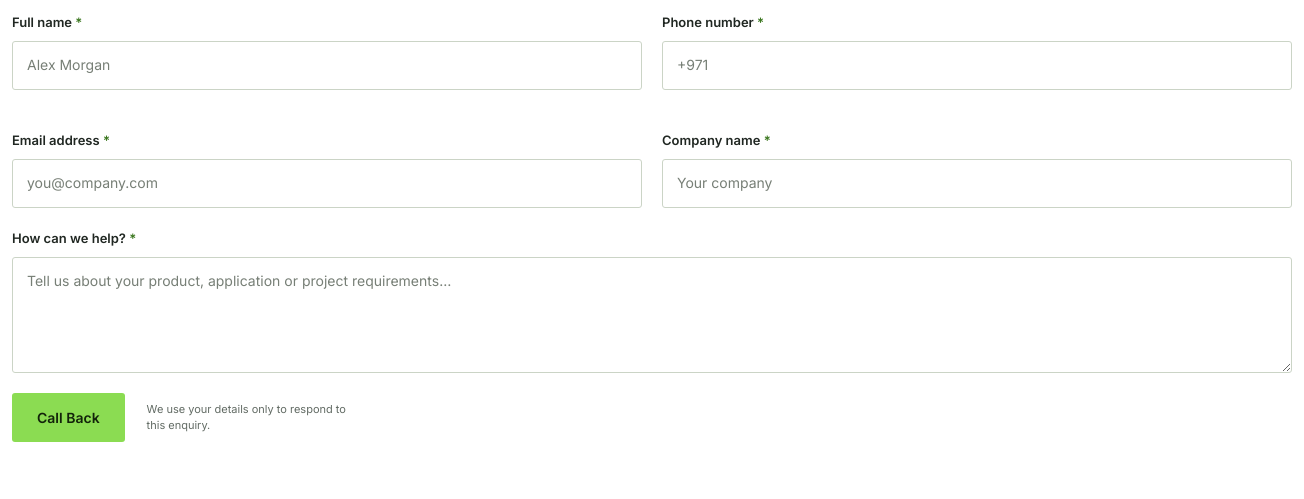
Test: Customer enquiry flow › shows a recoverable server error and retains entered values
Type "Customer" into the field labelled "Full name *" at (327, 66), box [12,41,642,90]
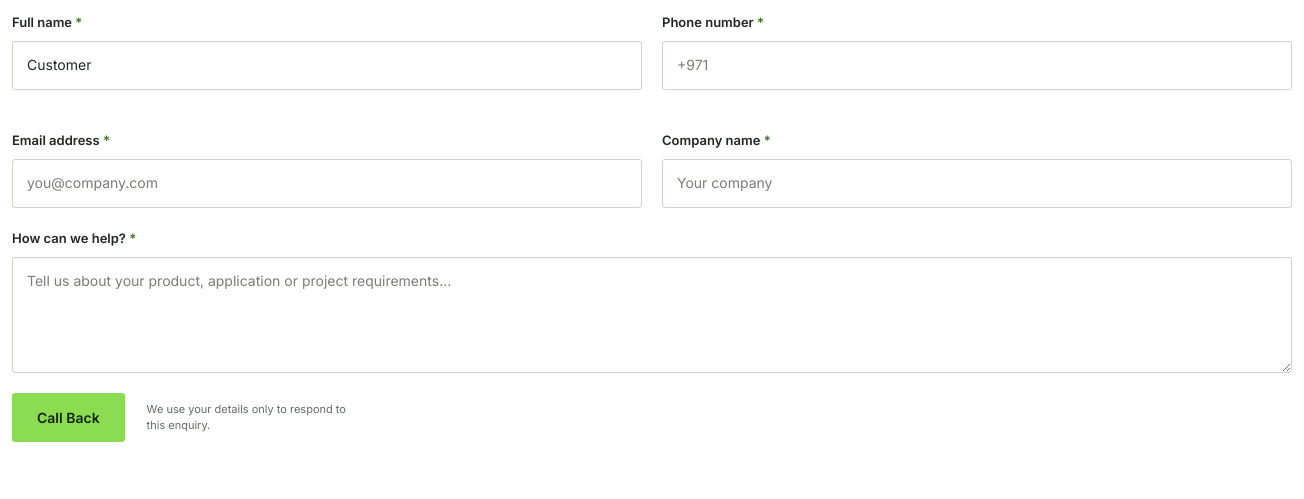
Type "123456789" into the field labelled "Phone number *" at (977, 66), box [662,41,1292,90]
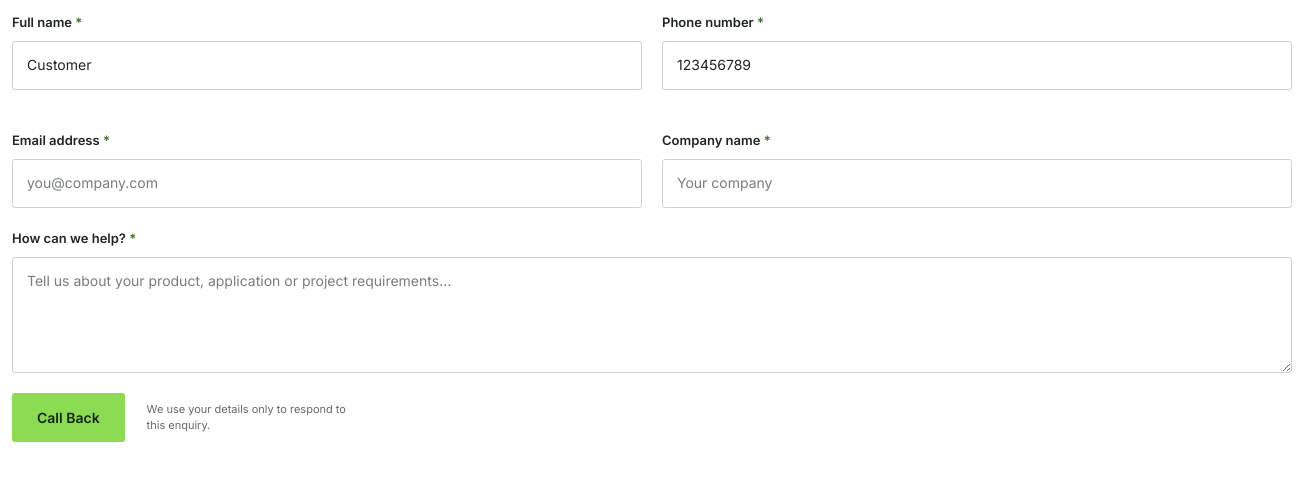
Type "a@example.com" into the field labelled "Email address *" at (327, 184), box [12,159,642,208]
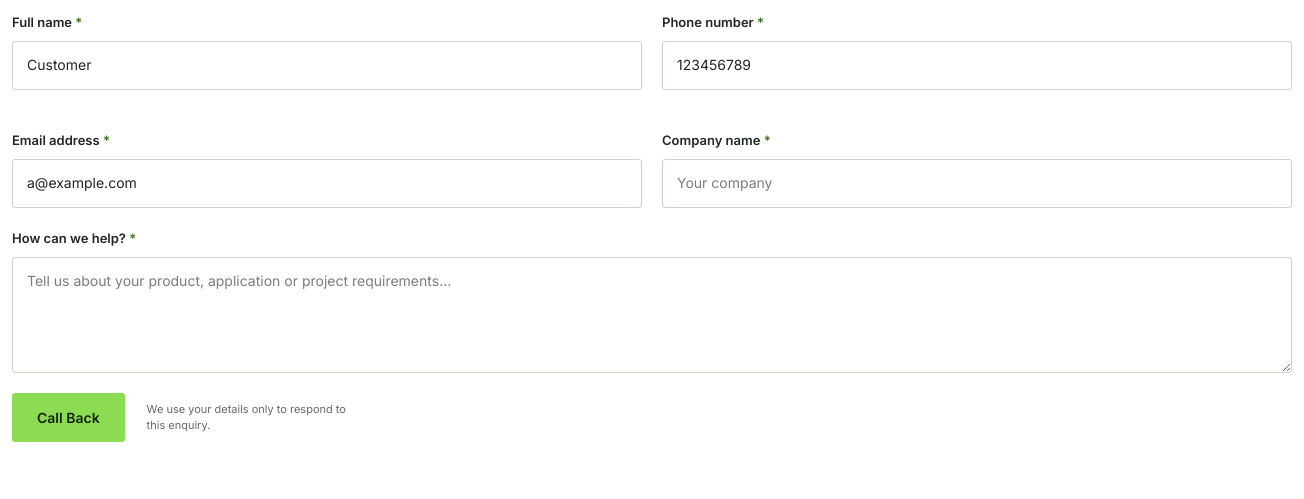
Type "Company" into the field labelled "Company name *" at (977, 184), box [662,159,1292,208]
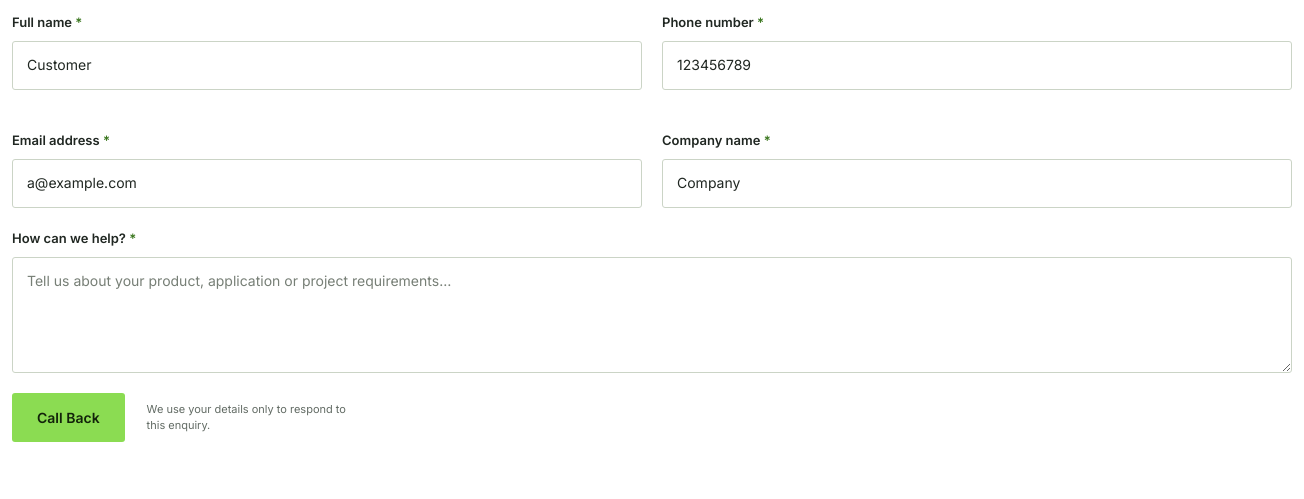
Replace the text in the text box labelled "How can we help? *" with "Please quote this motor." at (652, 315), box [12,257,1292,373]
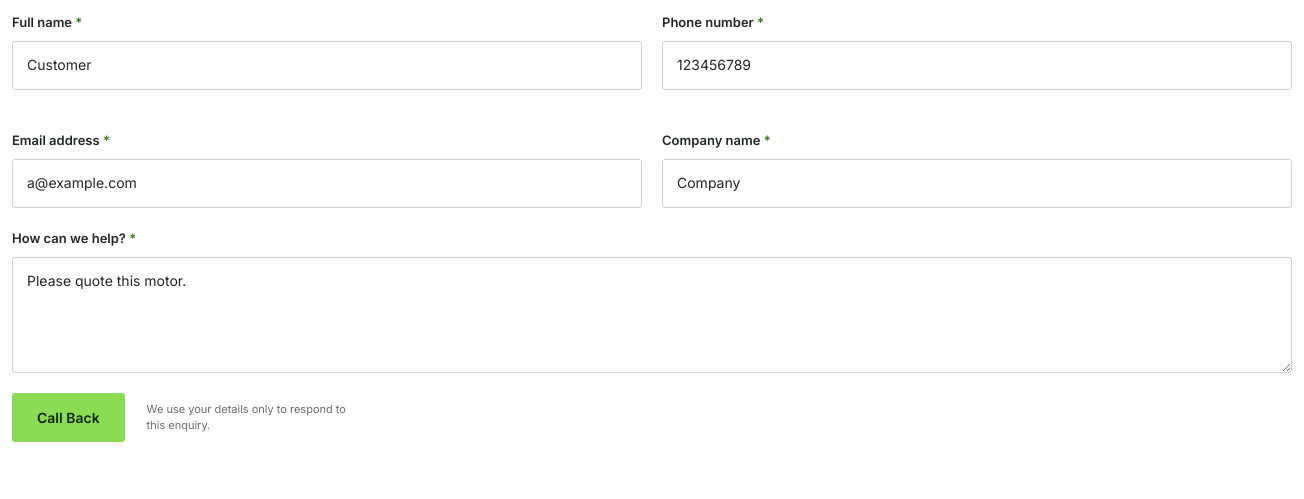
Click the button "Call Back" at (68, 418), box [12,393,125,442]
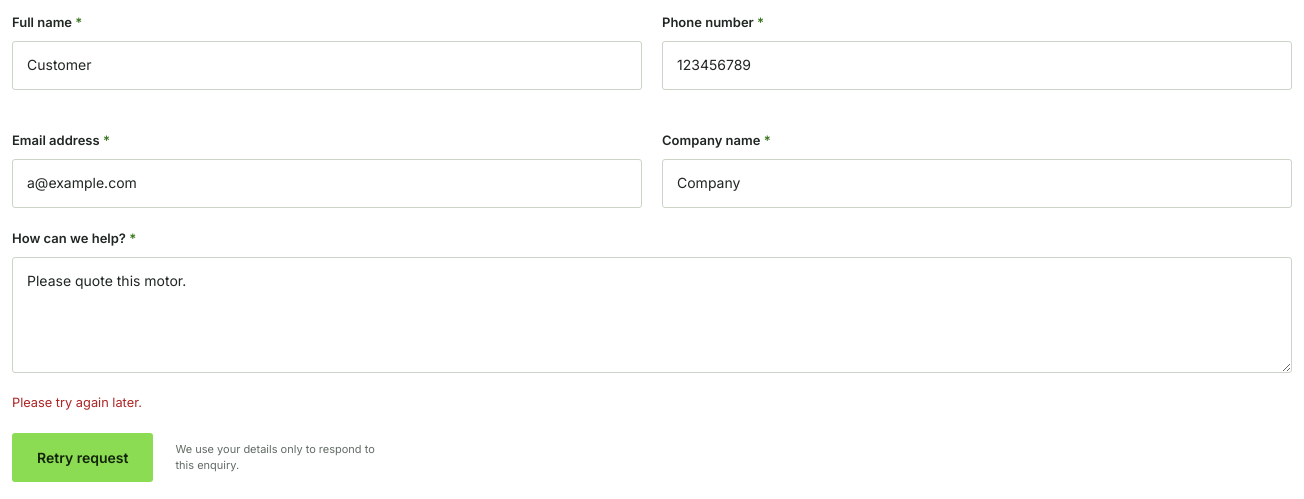
Now the message reads "Please try again later.", box [12,395,142,410]
